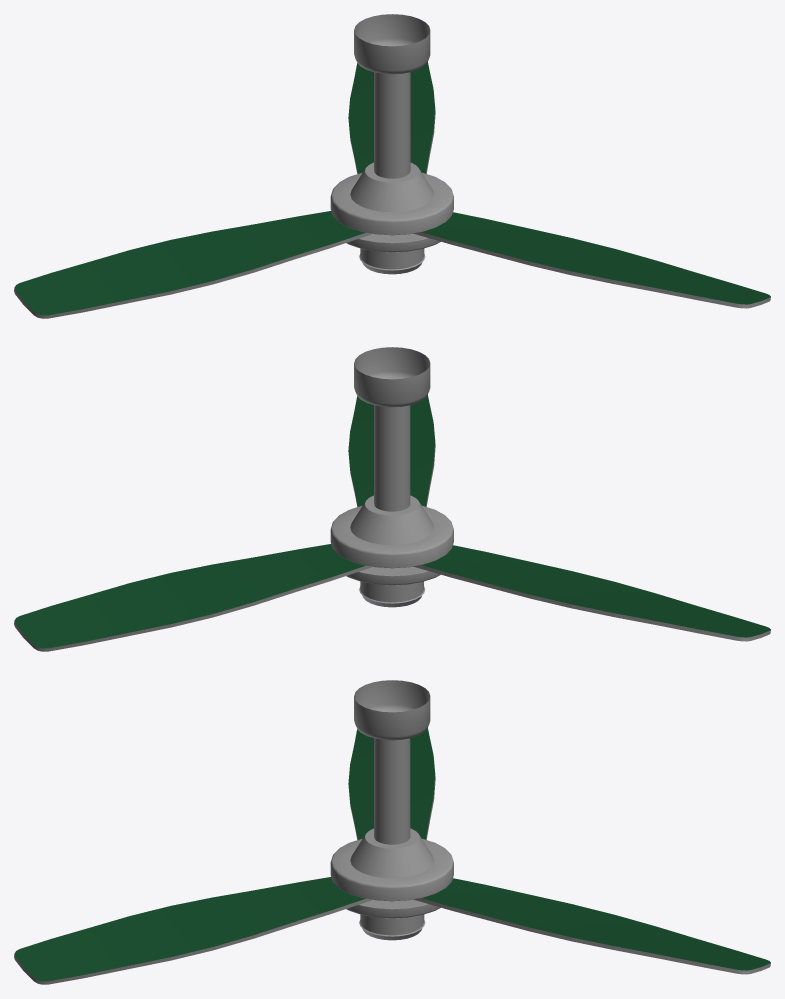
Rendered from ventiliarot_.FBX.
3 renders of one model, top to bottom at view 1: azimuth 30°, elevation 25°; view 2: azimuth 150°, elevation 25°; view 3: azimuth 270°, elevation 25°, orthographic.
Parts seen in each view (by area): view 1: lopasti_, ventiliarot_tube; view 2: lopasti_, ventiliarot_tube; view 3: lopasti_, ventiliarot_tube.
Part boxes in pixels (bbox=[...]): lopasti_: bbox=[14, 62, 770, 318]; ventiliarot_tube: bbox=[330, 14, 453, 274]; lopasti_: bbox=[14, 395, 770, 651]; ventiliarot_tube: bbox=[330, 347, 453, 607]; lopasti_: bbox=[14, 728, 770, 984]; ventiliarot_tube: bbox=[330, 680, 453, 940].
Bounding box in the file's own units: 550 × 215 × 631.
